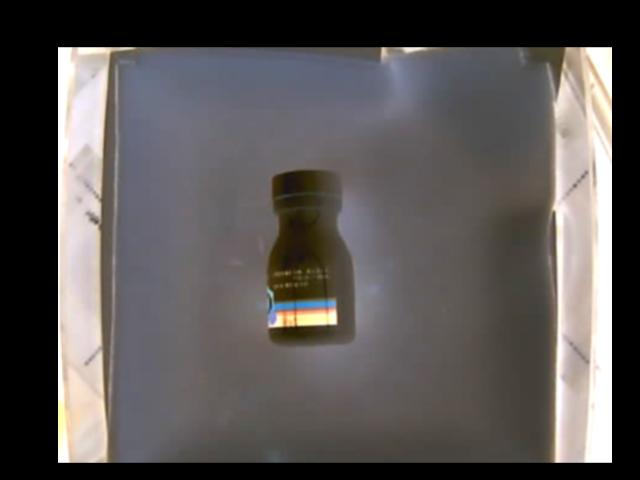Bottle: (265, 172, 356, 346)
